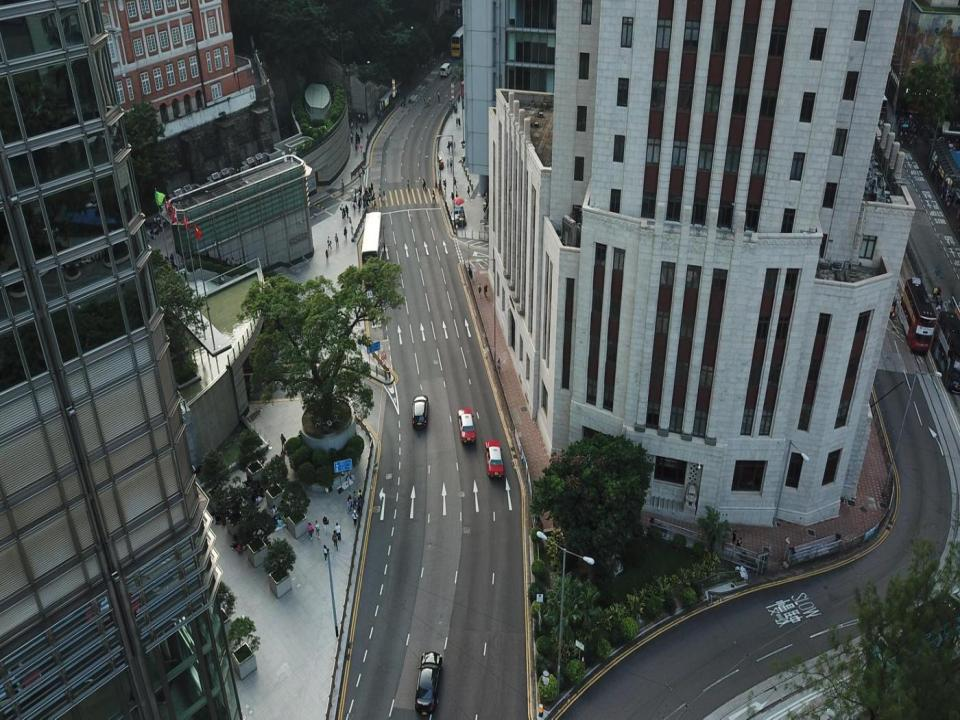bus: (876, 592, 960, 674), (900, 278, 933, 355), (930, 310, 960, 393), (360, 212, 384, 277), (450, 26, 472, 58)
car: (415, 652, 442, 717), (485, 439, 503, 477), (458, 407, 475, 445), (412, 395, 429, 430)
van: (439, 62, 452, 76)
